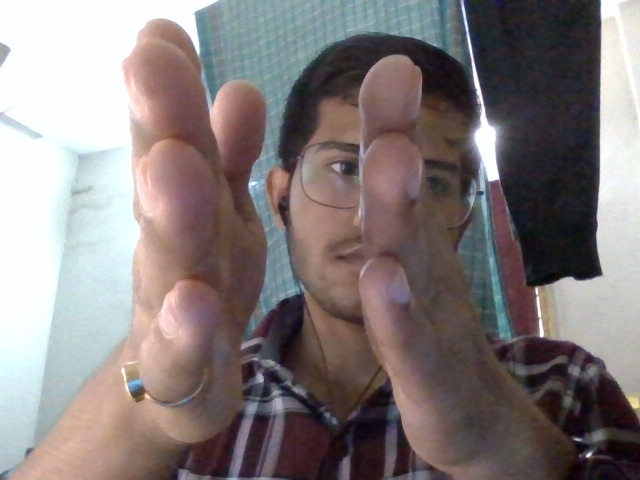ThankYou: (117, 20, 537, 447)
